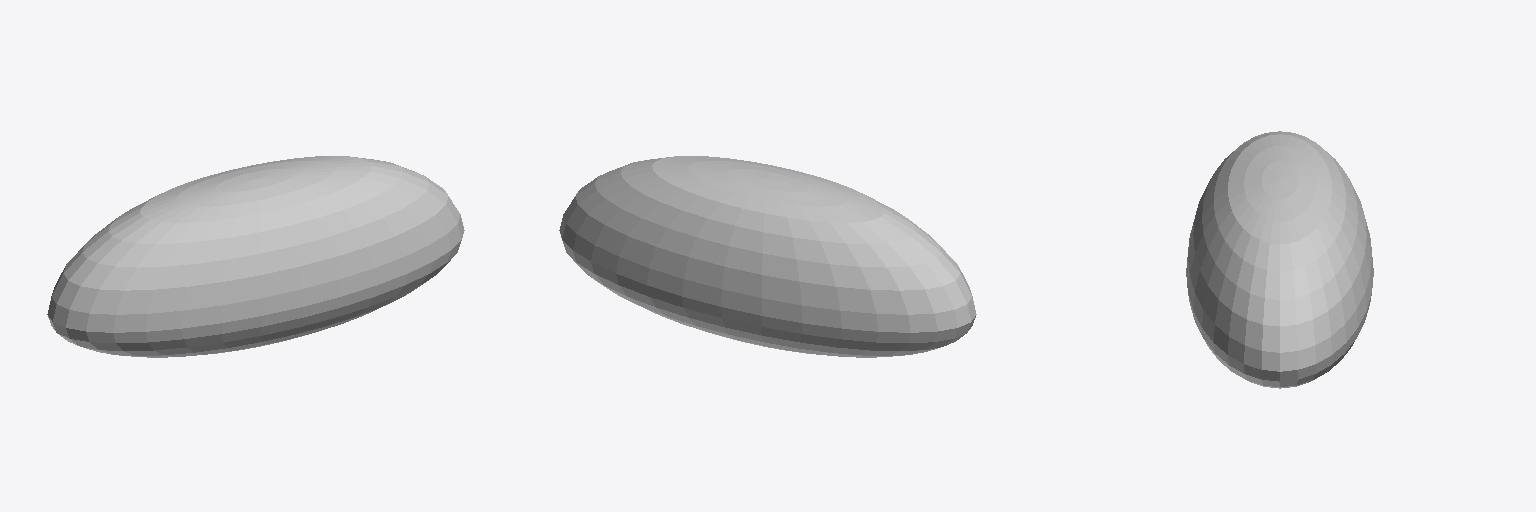
The model's file is slime_wide.obj.
3 renders of one model, left to right at view 1: azimuth 30°, elevation 25°; view 2: azimuth 150°, elevation 25°; view 3: azimuth 270°, elevation 25°, orthographic.
Parts seen in each view (by area): view 1: Mesh_Sphere; view 2: Mesh_Sphere; view 3: Mesh_Sphere.
Boxes of the visible parts, box(x1,y1,x2,y2) form: Mesh_Sphere: box(47, 156, 464, 357); Mesh_Sphere: box(559, 156, 976, 357); Mesh_Sphere: box(1186, 131, 1373, 388).
Size of the model in its own units: 5 by 1.81 by 2.